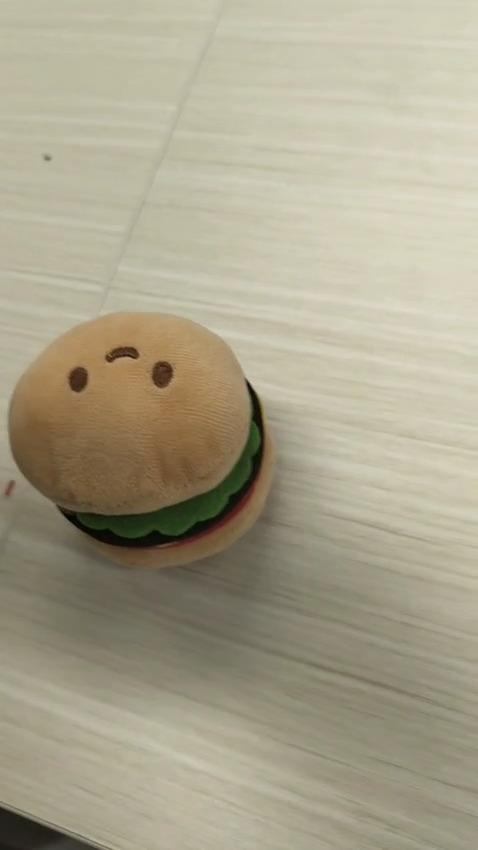hamburger: (7, 309, 276, 570)
